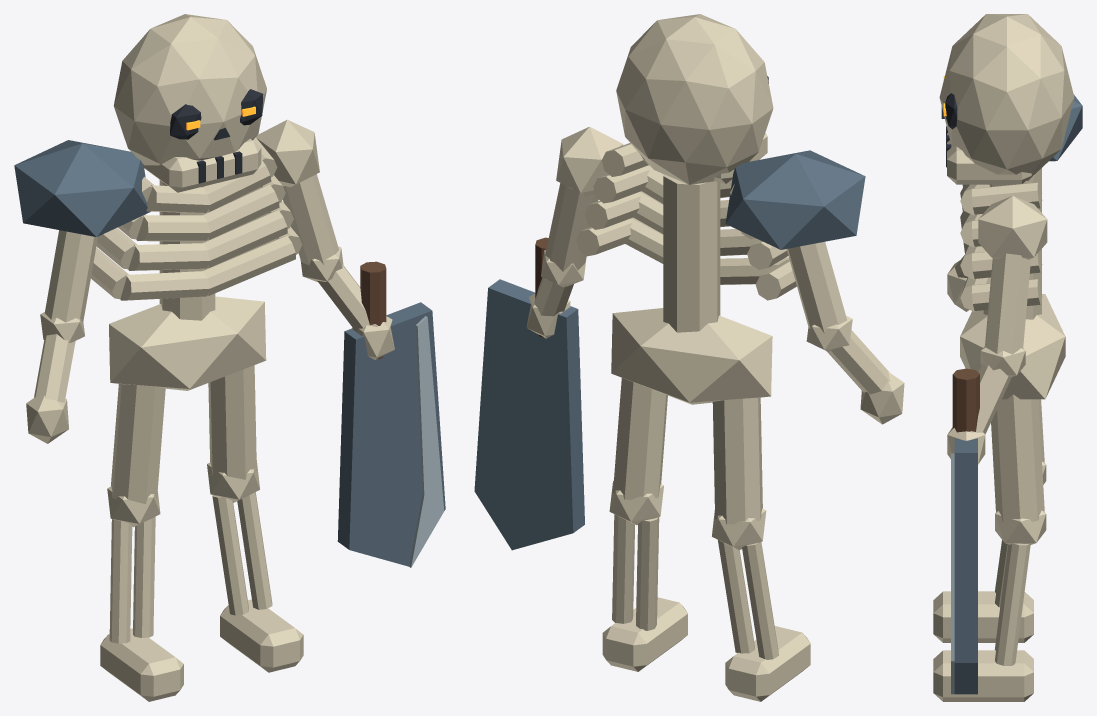
The model's file is skeleton.glb.
The picture shows the model from 3 angles, left to right: view 1: azimuth 30°, elevation 25°; view 2: azimuth 150°, elevation 25°; view 3: azimuth 270°, elevation 25°; orthographic projection. The views are drawn at different scales.
Visible parts, largest first — view 1: skeleton_body_mesh, skeleton_weapon_mesh, skeleton_head_mesh, skeleton_arm_l_mesh, skeleton_leg_l_mesh, skeleton_leg_r_mesh, skeleton_arm_r_mesh; view 2: skeleton_body_mesh, skeleton_weapon_mesh, skeleton_head_mesh, skeleton_arm_l_mesh, skeleton_leg_l_mesh, skeleton_leg_r_mesh, skeleton_arm_r_mesh; view 3: skeleton_head_mesh, skeleton_leg_r_mesh, skeleton_arm_r_mesh, skeleton_body_mesh, skeleton_weapon_mesh, skeleton_leg_l_mesh, skeleton_arm_l_mesh.
Part boxes in pixels (x1,y1,x2,y2): skeleton_body_mesh: (91,137,302,390); skeleton_weapon_mesh: (337,261,445,567); skeleton_head_mesh: (113,14,266,192); skeleton_arm_l_mesh: (14,140,150,443); skeleton_leg_l_mesh: (100,384,183,701); skeleton_leg_r_mesh: (207,365,303,672); skeleton_arm_r_mesh: (256,119,394,360); skeleton_body_mesh: (576,143,796,404); skeleton_weapon_mesh: (474,237,584,550); skeleton_head_mesh: (616,14,773,184); skeleton_arm_l_mesh: (725,150,904,424); skeleton_leg_l_mesh: (712,397,810,701); skeleton_leg_r_mesh: (602,378,687,671); skeleton_arm_r_mesh: (526,126,622,338); skeleton_head_mesh: (939,14,1074,184); skeleton_leg_r_mesh: (933,394,1046,701); skeleton_arm_r_mesh: (947,196,1047,464); skeleton_body_mesh: (960,168,1065,399); skeleton_weapon_mesh: (951,368,979,694); skeleton_leg_l_mesh: (933,399,1046,642); skeleton_arm_l_mesh: (947,94,1082,311).
Bounding box in the file's own units: 1.24 × 1.85 × 0.3851.
